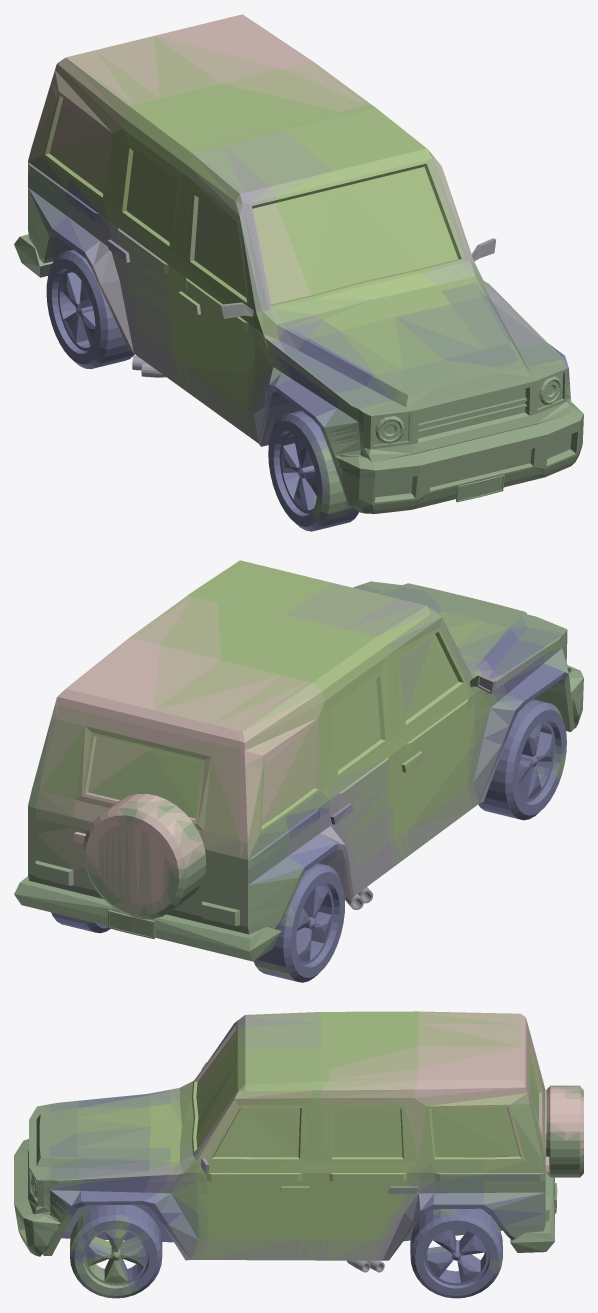
The picture shows the model from 3 angles, top to bottom: view 1: azimuth 30°, elevation 25°; view 2: azimuth 150°, elevation 25°; view 3: azimuth 270°, elevation 25°; orthographic projection. The views are drawn at different scales.
Parts seen in each view (by area): view 1: world; view 2: world; view 3: world.
Part boxes in pixels (x1,y1,x2,y2): world: [14, 14, 583, 531]; world: [14, 560, 583, 982]; world: [14, 1011, 583, 1298].
Size of the model in its own units: 0.4268 by 0.4029 by 1.
